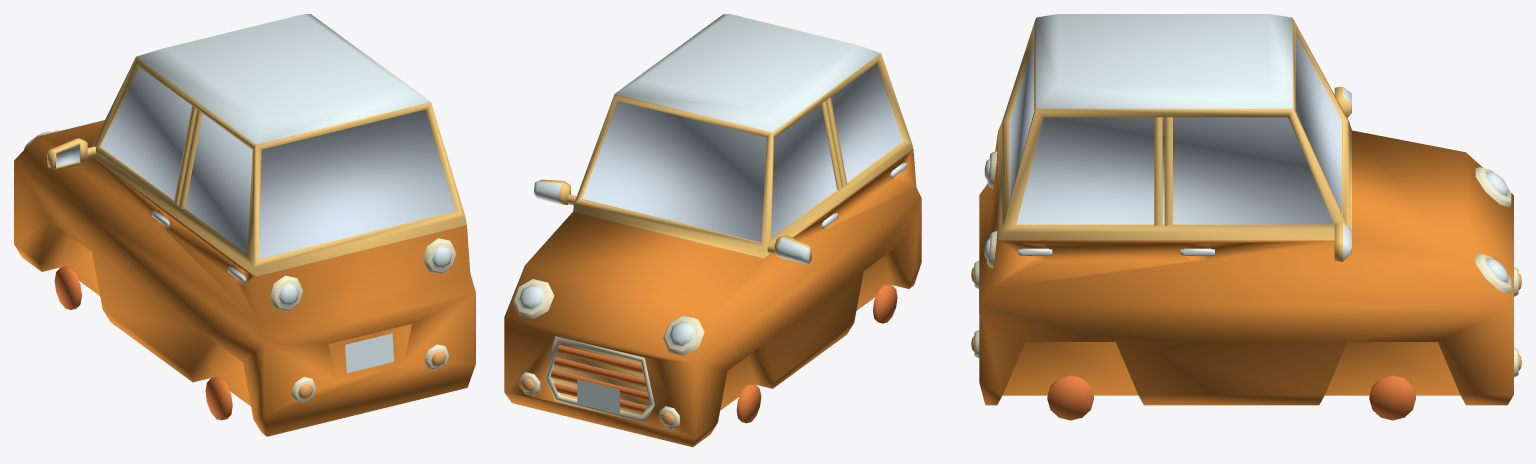
The model's file is Car_04.fbx.
3 renders of one model, left to right at view 1: azimuth 30°, elevation 25°; view 2: azimuth 150°, elevation 25°; view 3: azimuth 270°, elevation 25°, orthographic. The views are drawn at different scales.
Parts seen in each view (by area): view 1: CarC_T.003; view 2: CarC_T.003; view 3: CarC_T.003.
Boxes of the visible parts, <box> form: CarC_T.003: <box>14,14,475,436</box>; CarC_T.003: <box>504,14,921,446</box>; CarC_T.003: <box>971,14,1521,420</box>.
Size of the model in its own units: 94.09 by 94.83 by 144.
1 material, 1 textured.
